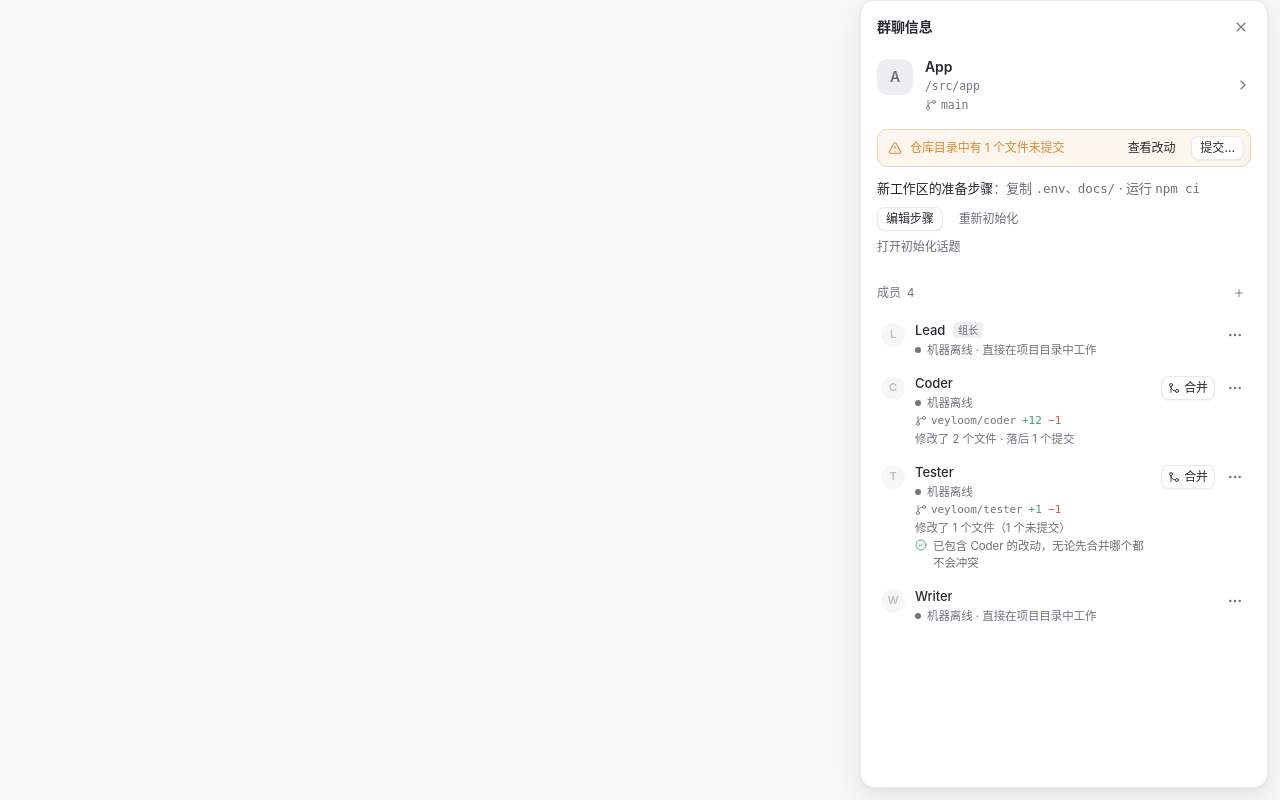
Test: the checkout in the chat’s info › says whose work a branch has in full, and drafts the merge from its commits
Check: the list item "Tester" shows "已包含 Coder 的改动，无论先合并哪个都不会冲突", box [873,455,1255,579]
What coordinates should you click on to do the following:
click the 2nd button "合并"
I would click on:
 (1188, 477)
Its box is [1161,465,1215,489].
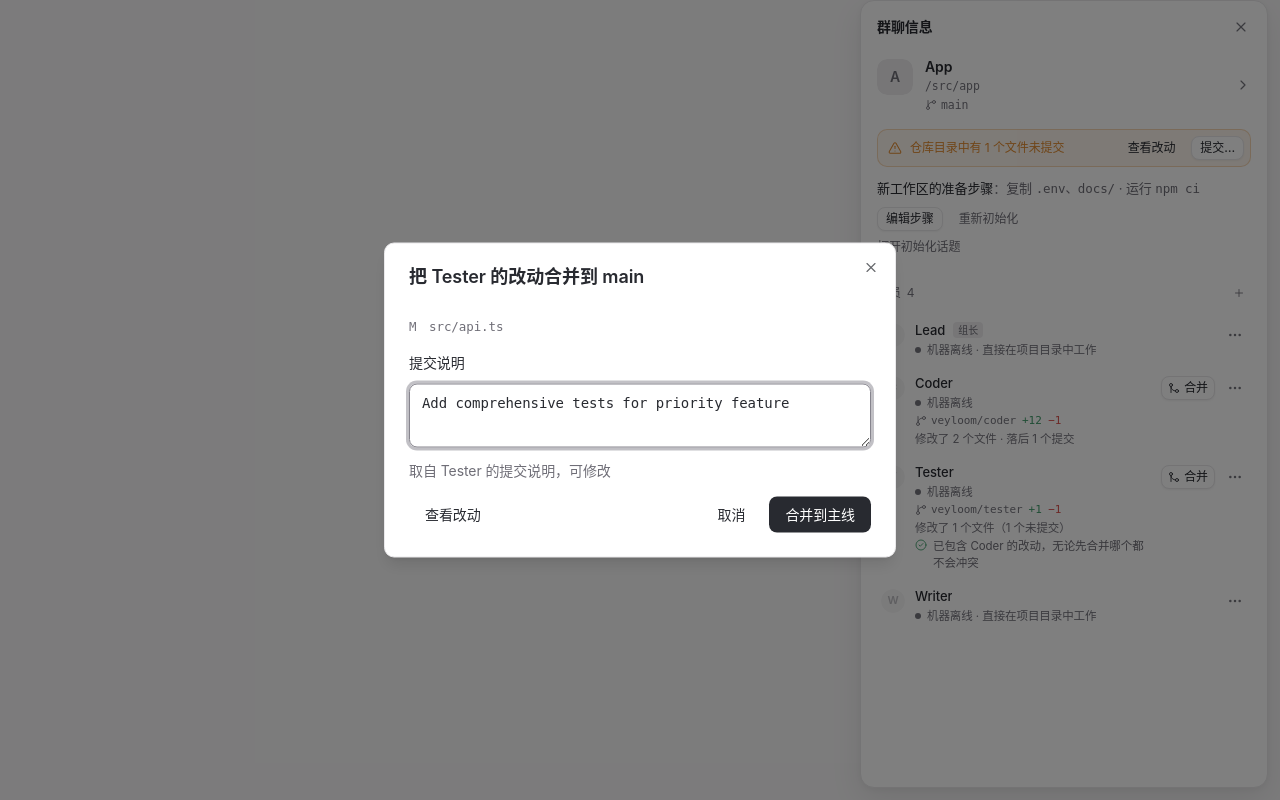
Check: the text box labelled "提交说明" holds "Add comprehensive tests for priority feature", box [409,384,871,448]
Check: the text "取自 Tester 的提交说明，可修改" is shown, box [409,462,611,478]
